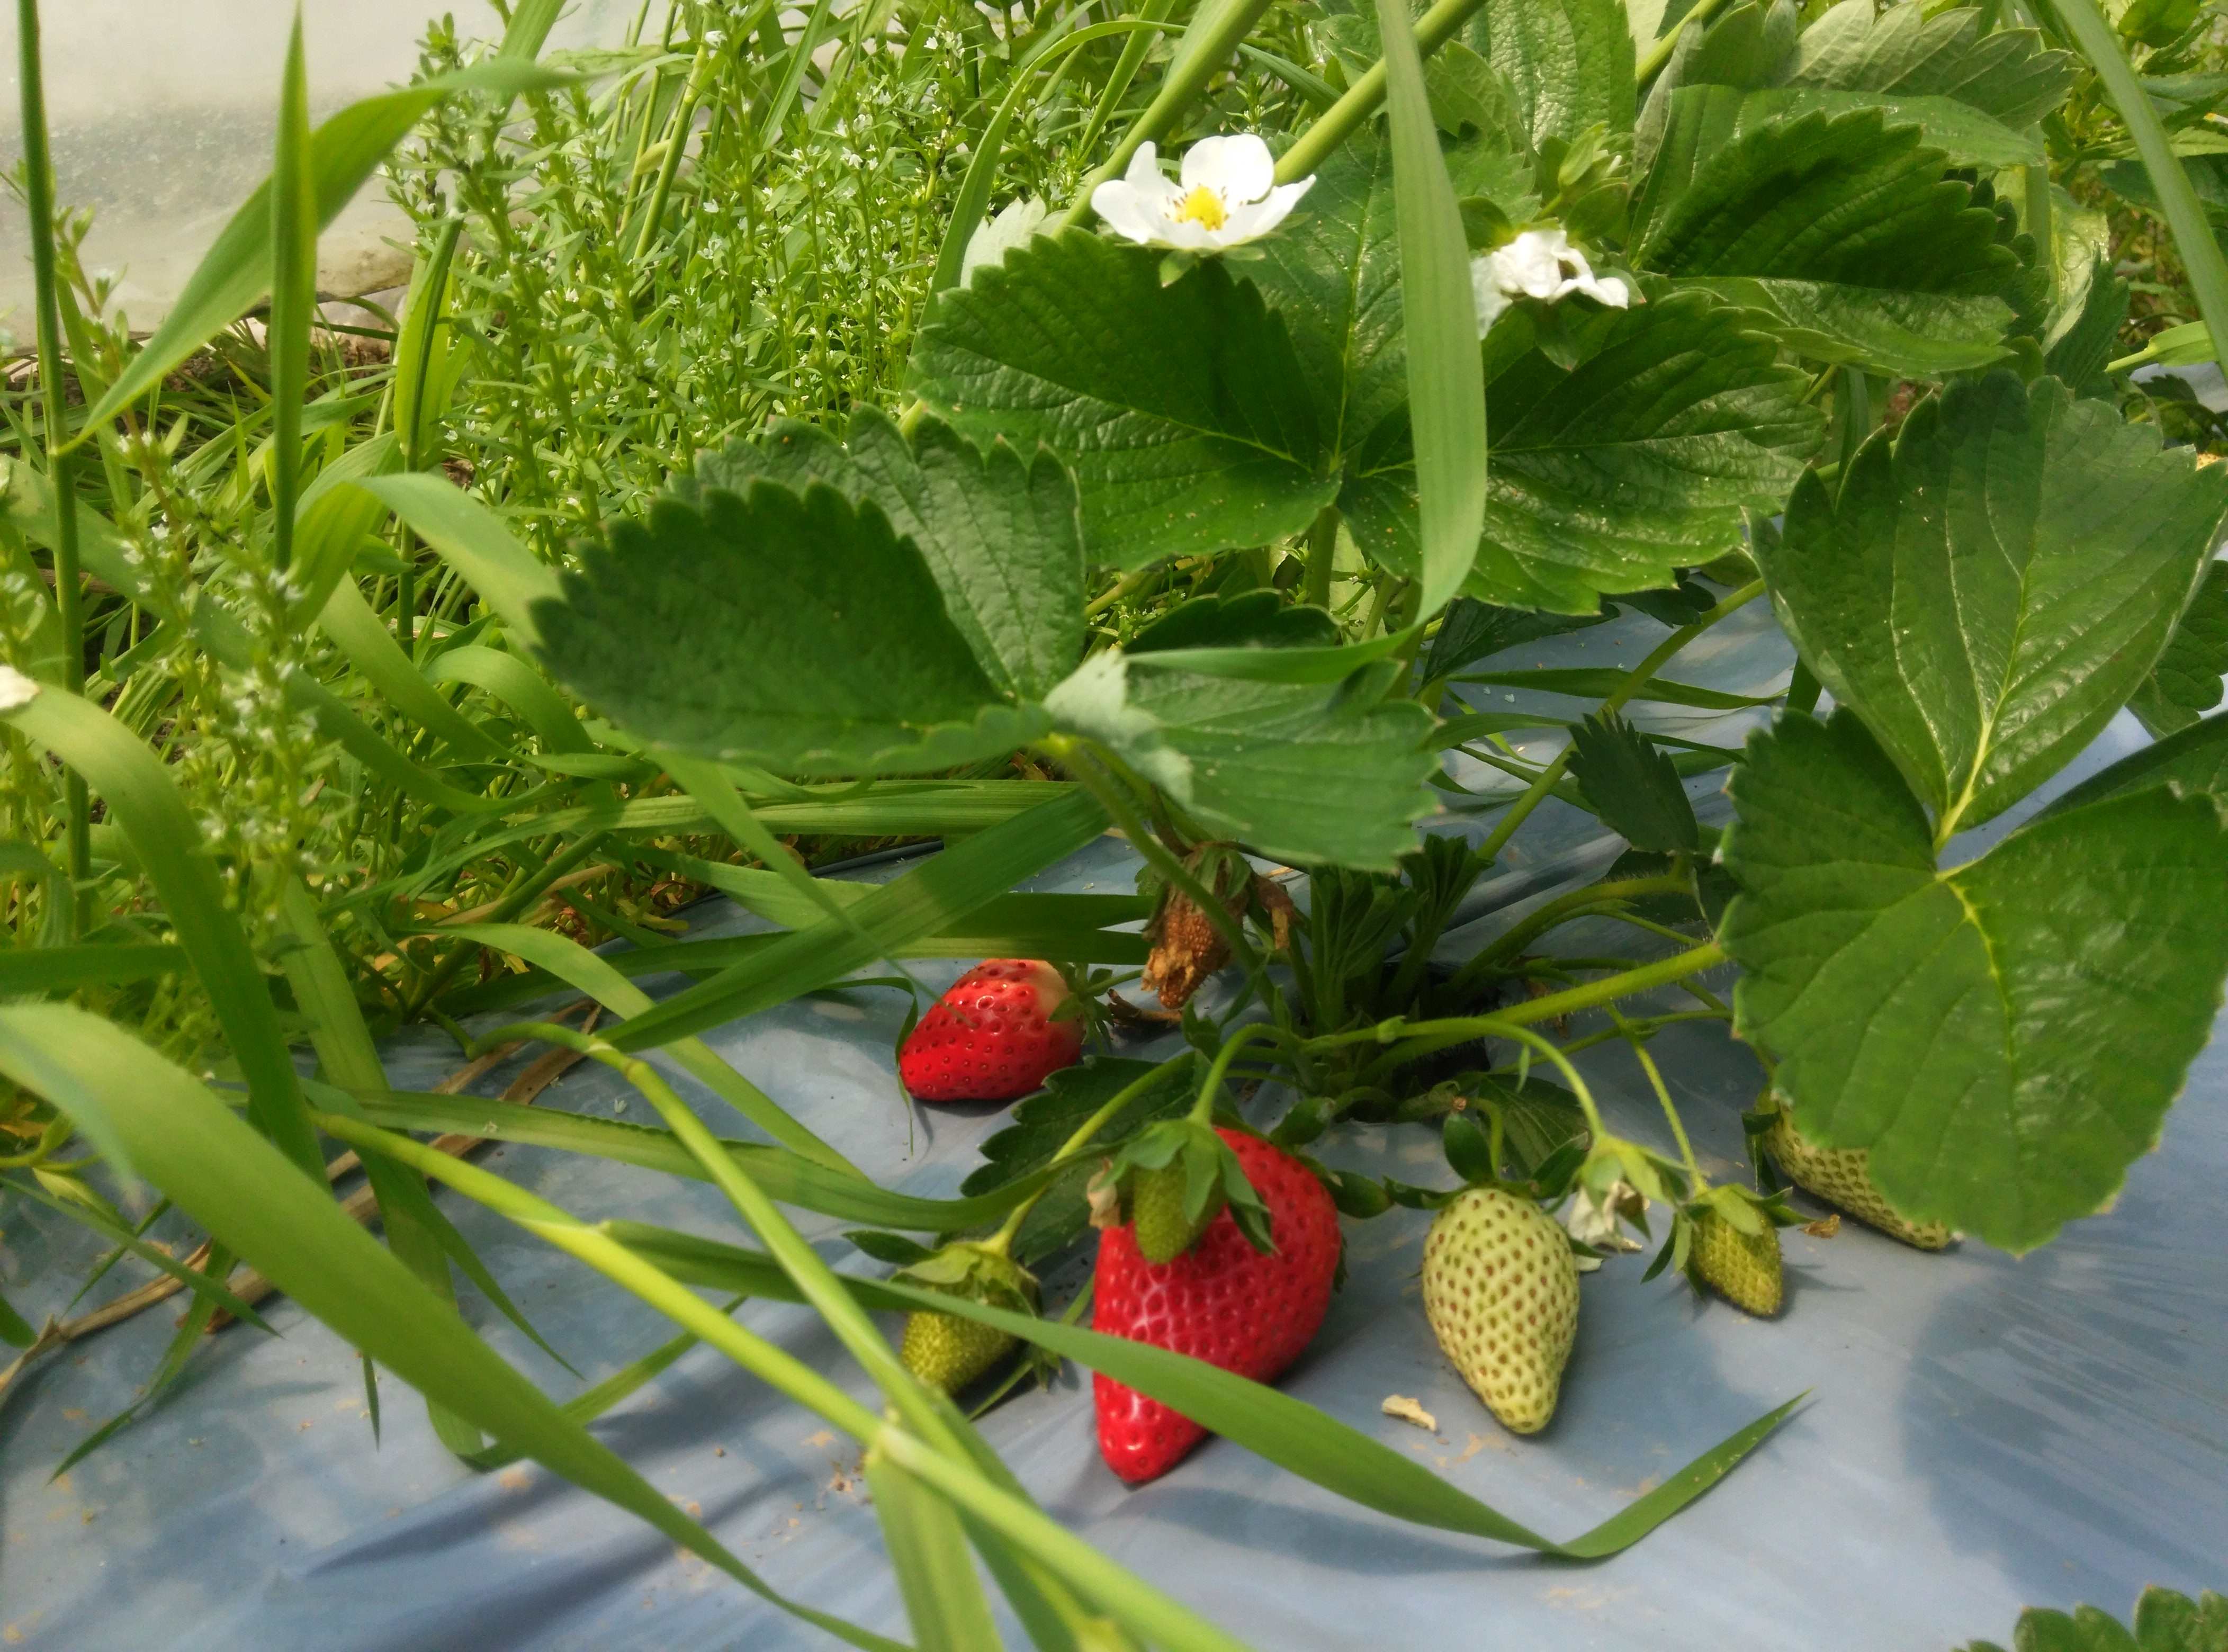StrawberryCone: (1086, 1126, 1345, 1494), (890, 935, 1097, 1111)
StrawberryIrremovable: (1414, 1178, 1588, 1449), (1747, 1086, 1980, 1268), (890, 1232, 1046, 1400), (1119, 1112, 1234, 1272), (1678, 1189, 1799, 1322)
StrawberryRemovable: (1088, 1133, 1343, 1485), (897, 951, 1097, 1107)
